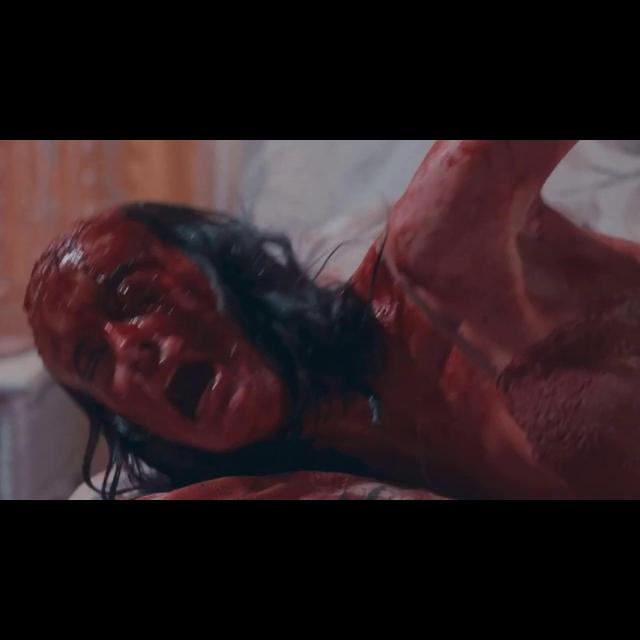blood: (153, 140, 640, 499), (25, 208, 290, 452)
